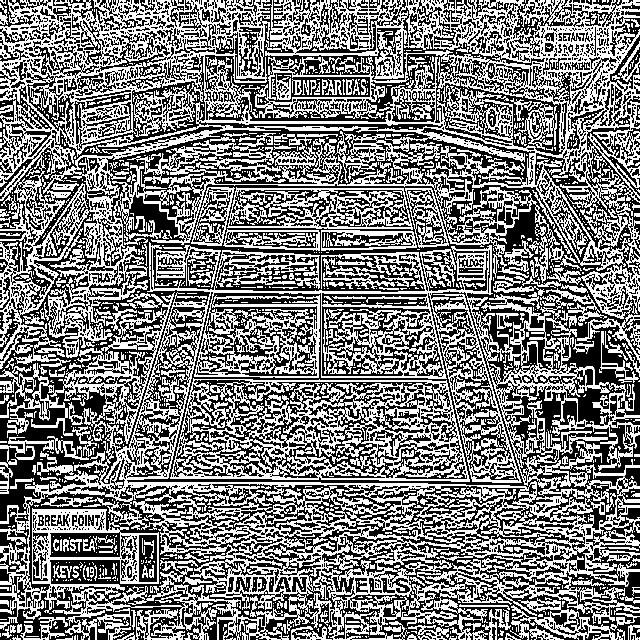left side: (403, 186, 523, 484), (115, 186, 235, 481)
player: (101, 384, 139, 501), (334, 130, 352, 188)
